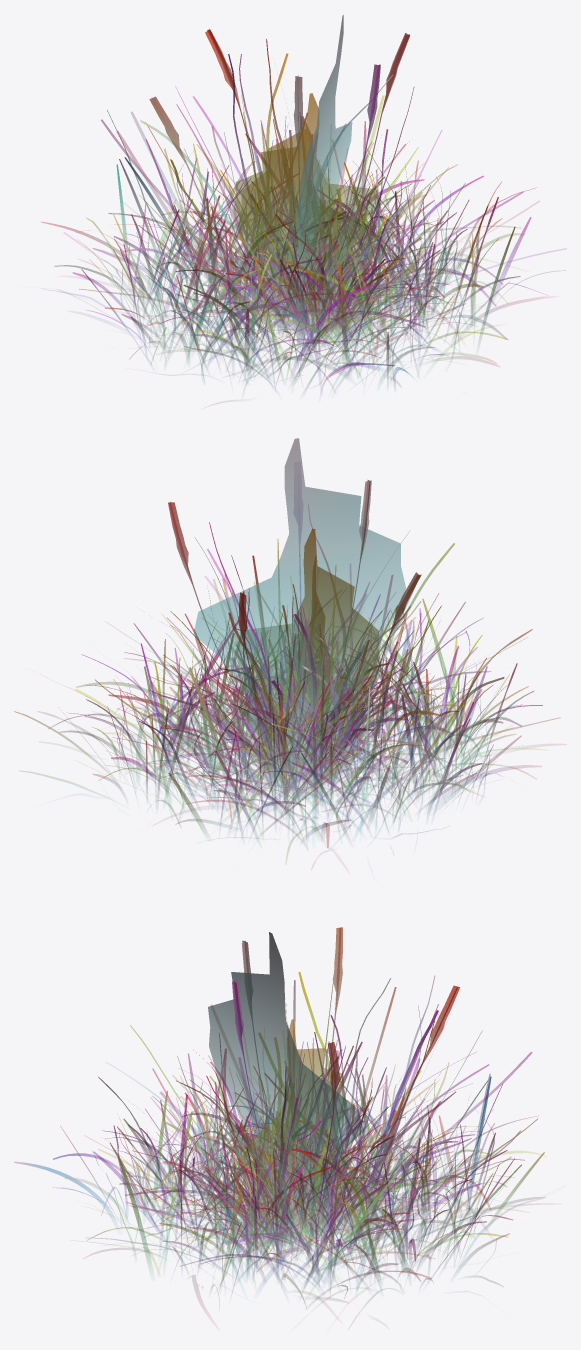
Rendered from vlkhcbxia_tier_1.gltf.
3 views of the same model, one above another, from view 1: azimuth 30°, elevation 25°; view 2: azimuth 150°, elevation 25°; view 3: azimuth 270°, elevation 25° (orthographic).
Visible parts, largest first — view 1: SM_vlkhcbxia_VarB, SM_vlkhcbxia_VarA, SM_vlkhcbxia_VarC, SM_vlkhcbxia_VarD, SM_vlkhcbxia_VarE, SM_vlkhcbxia_VarG, SM_vlkhcbxia_VarF, SM_vlkhcbxia_VarH; view 2: SM_vlkhcbxia_VarA, SM_vlkhcbxia_VarB, SM_vlkhcbxia_VarC, SM_vlkhcbxia_VarD, SM_vlkhcbxia_VarE, SM_vlkhcbxia_VarG, SM_vlkhcbxia_VarF; view 3: SM_vlkhcbxia_VarB, SM_vlkhcbxia_VarA, SM_vlkhcbxia_VarC, SM_vlkhcbxia_VarD, SM_vlkhcbxia_VarE, SM_vlkhcbxia_VarG, SM_vlkhcbxia_VarF, SM_vlkhcbxia_VarH.
Part boxes in pixels (x1=…): SM_vlkhcbxia_VarB: x1=41, y1=115, x2=564, y2=391; SM_vlkhcbxia_VarA: x1=64, y1=15, x2=566, y2=362; SM_vlkhcbxia_VarC: x1=57, y1=120, x2=520, y2=386; SM_vlkhcbxia_VarD: x1=107, y1=39, x2=456, y2=335; SM_vlkhcbxia_VarE: x1=124, y1=161, x2=448, y2=337; SM_vlkhcbxia_VarG: x1=193, y1=220, x2=438, y2=336; SM_vlkhcbxia_VarF: x1=147, y1=193, x2=459, y2=342; SM_vlkhcbxia_VarH: x1=238, y1=236, x2=402, y2=337; SM_vlkhcbxia_VarA: x1=80, y1=438, x2=560, y2=827; SM_vlkhcbxia_VarB: x1=14, y1=539, x2=549, y2=864; SM_vlkhcbxia_VarC: x1=67, y1=590, x2=566, y2=825; SM_vlkhcbxia_VarD: x1=75, y1=505, x2=454, y2=789; SM_vlkhcbxia_VarE: x1=165, y1=592, x2=445, y2=826; SM_vlkhcbxia_VarG: x1=186, y1=676, x2=388, y2=772; SM_vlkhcbxia_VarF: x1=220, y1=613, x2=406, y2=796; SM_vlkhcbxia_VarB: x1=14, y1=1030, x2=546, y2=1329; SM_vlkhcbxia_VarA: x1=86, y1=927, x2=532, y2=1254; SM_vlkhcbxia_VarC: x1=87, y1=1055, x2=545, y2=1302; SM_vlkhcbxia_VarD: x1=130, y1=972, x2=537, y2=1249; SM_vlkhcbxia_VarE: x1=173, y1=1066, x2=524, y2=1273; SM_vlkhcbxia_VarG: x1=223, y1=1134, x2=396, y2=1263; SM_vlkhcbxia_VarF: x1=142, y1=1136, x2=393, y2=1250; SM_vlkhcbxia_VarH: x1=195, y1=1151, x2=400, y2=1249.
Size of what is drawn, in the model's own units: 0.5745 by 0.4087 by 0.5612.
